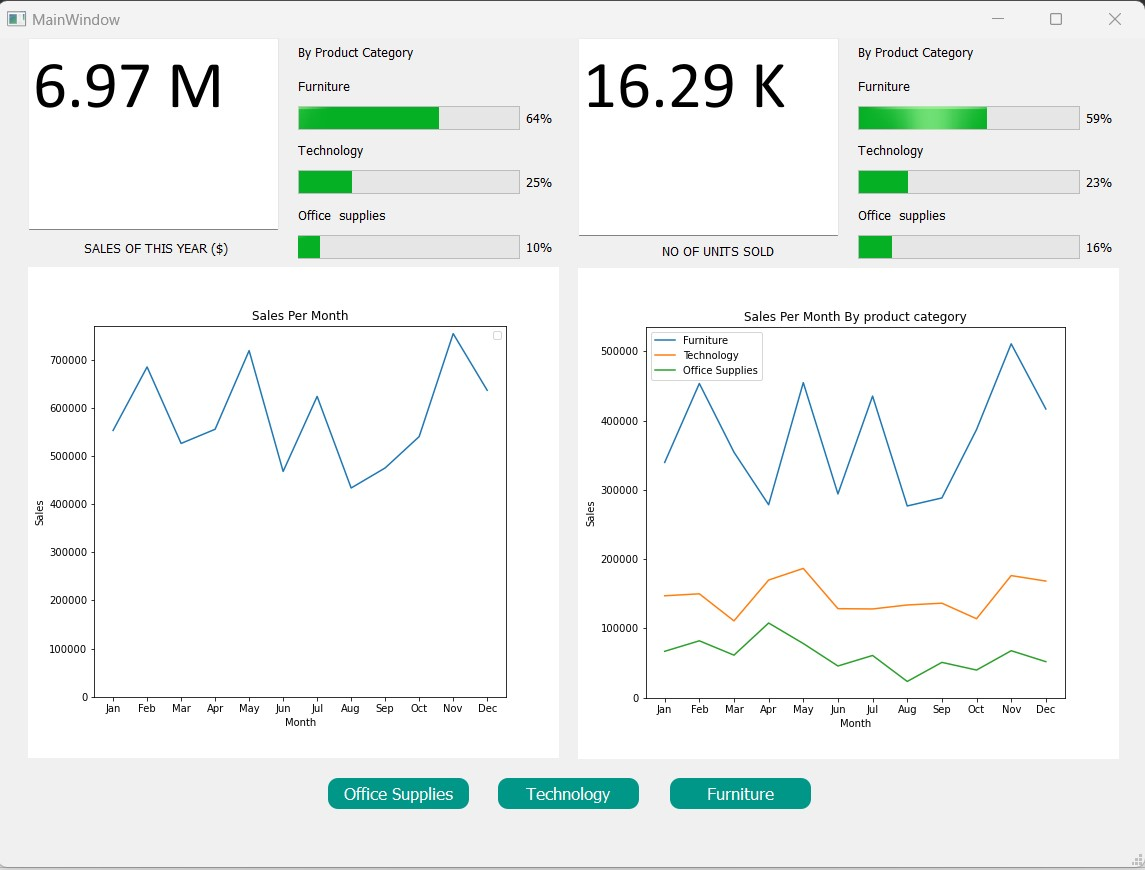

The dashboard page shown, as its layout file describes it:
{"tool":"powerbi","page":{"name":"HOME","canvas":[1280,720],"ordinal":0},"visuals":[{"type":"slicer","fields":{"Values":["calendar_dim.year","calendar_dim.qtr"]},"box":[1,75.9,152.7,177],"z":0},{"type":"areaChart","fields":{"Category":["calendar_dim.month_name"],"Y":["Sum(sales_fact.sales)"]},"box":[594,360,328,276],"z":1000},{"type":"slicer","fields":{"Values":["calendar_dim.day_of_week"]},"box":[0,657.5,152.7,62.2],"z":2000},{"type":"slicer","fields":{"Values":["calendar_dim.month_name"]},"box":[0,252.9,152.7,404.6],"z":3000},{"type":"gauge","fields":{"Y":["Sum(sales_fact.sales)"]},"box":[247,38,264,168],"z":4000},{"type":"gauge","fields":{"Y":["Sum(sales_fact.units_sold)"]},"box":[1015,38,265,168],"z":5000},{"type":"image","box":[0,0,152.7,75.9],"z":6000},{"type":"columnChart","fields":{"Category":["product_dim.category_name"],"Y":["Sum(sales_fact.sales)"]},"box":[220,296,265,276],"z":7000},{"type":"treemap","title":"TOP 10 PRODUCTS SOLD","fields":{"Values":["Sum(sales_fact.sales)"],"Group":["product_dim.product_name"]},"box":[606,0,316,296],"z":8000},{"type":"pageNavigator","box":[947.4,648.8,332.6,71],"z":9000},{"type":"columnChart","fields":{"Category":["product_dim.category_name"],"Y":["Sum(sales_fact.units_sold)"]},"box":[1015,296,265,276],"z":9001}]}

Visuals, with their boxes on the page's 1280x720 design canvas (x1, y1, x2, y2). These are canvas units, not pixel positions in the 1145x870 screenshot, which may show the page scaled, cropped or inside an application window:
slicer - calendar_dim.year x calendar_dim.qtr: (1,76,154,253)
areaChart - calendar_dim.month_name x Sum(sales_fact.sales): (594,360,922,636)
slicer - calendar_dim.day_of_week: (0,658,153,720)
slicer - calendar_dim.month_name: (0,253,153,658)
gauge - Sum(sales_fact.sales): (247,38,511,206)
gauge - Sum(sales_fact.units_sold): (1015,38,1280,206)
image: (0,0,153,76)
columnChart - product_dim.category_name x Sum(sales_fact.sales): (220,296,485,572)
"TOP 10 PRODUCTS SOLD" treemap: (606,0,922,296)
pageNavigator: (947,649,1280,720)
columnChart - product_dim.category_name x Sum(sales_fact.units_sold): (1015,296,1280,572)
